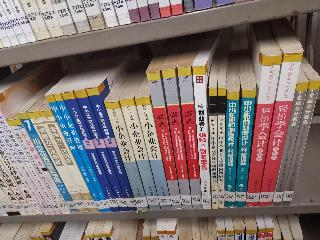book-spine: (44, 92, 105, 216), (61, 89, 121, 215), (236, 51, 284, 208), (256, 49, 302, 210), (73, 87, 130, 214), (54, 93, 112, 215), (84, 85, 138, 214), (17, 109, 80, 218), (6, 115, 72, 219), (39, 106, 100, 218), (27, 108, 89, 218), (0, 110, 61, 218), (0, 123, 58, 220), (103, 97, 150, 215), (144, 70, 183, 211), (270, 77, 310, 207), (280, 78, 320, 207), (119, 95, 162, 213), (159, 67, 193, 212), (135, 95, 173, 213), (0, 138, 51, 219), (176, 66, 202, 211), (230, 88, 256, 209), (191, 65, 210, 211), (224, 90, 240, 208), (215, 87, 226, 209), (209, 88, 219, 210)
